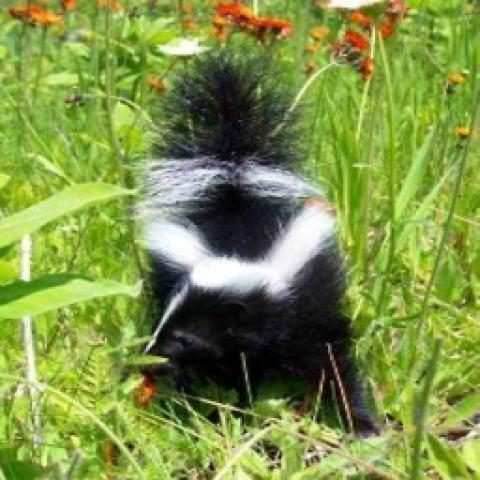small_animal: (128, 49, 382, 437)
